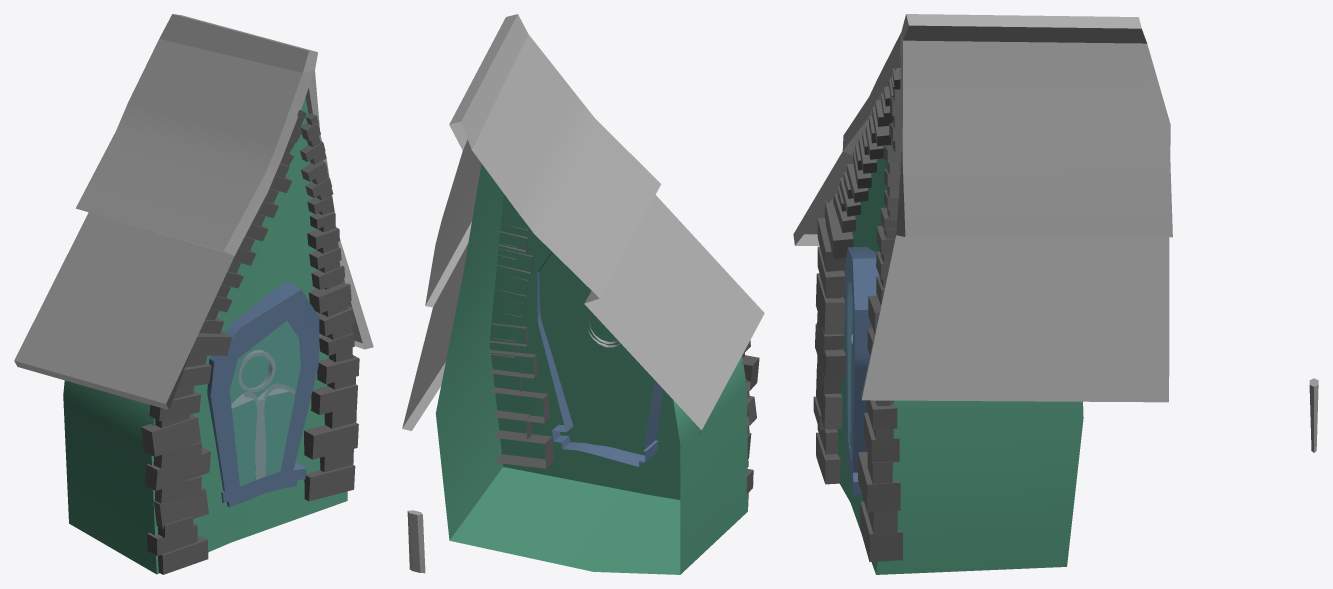
File: hut FBX.fbx
3 views of the same model, side by side, from view 1: azimuth 30°, elevation 25°; view 2: azimuth 150°, elevation 25°; view 3: azimuth 270°, elevation 25° (orthographic). The views are drawn at different scales.
Parts seen in each view (by area): view 1: loftedSurface3; view 2: loftedSurface3; view 3: loftedSurface3.
Boxes of the visible parts, x1=… form: loftedSurface3: x1=14, y1=14, x2=373, y2=574; loftedSurface3: x1=402, y1=14, x2=764, y2=574; loftedSurface3: x1=793, y1=14, x2=1318, y2=574.
Size of the model in its own units: 3.34 by 5.22 by 4.43.
